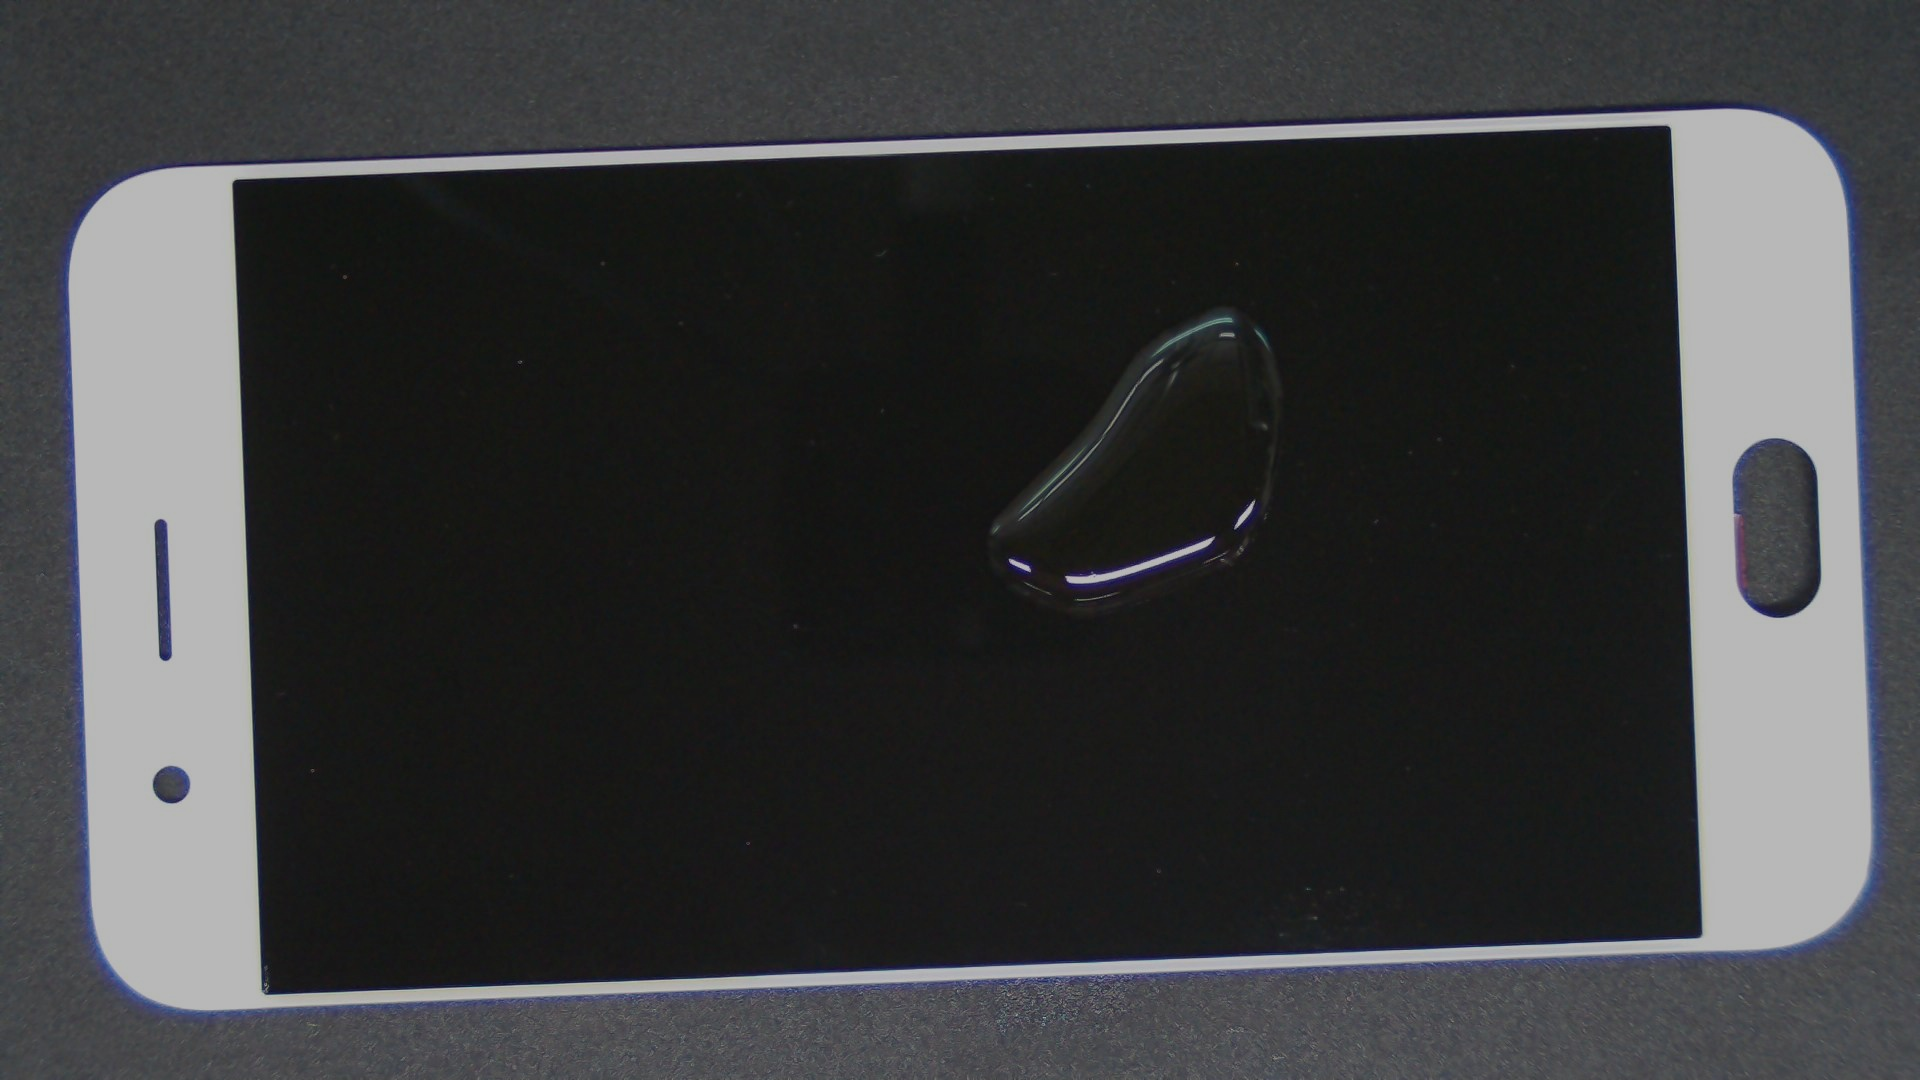oil: (609, 152, 1826, 458)
